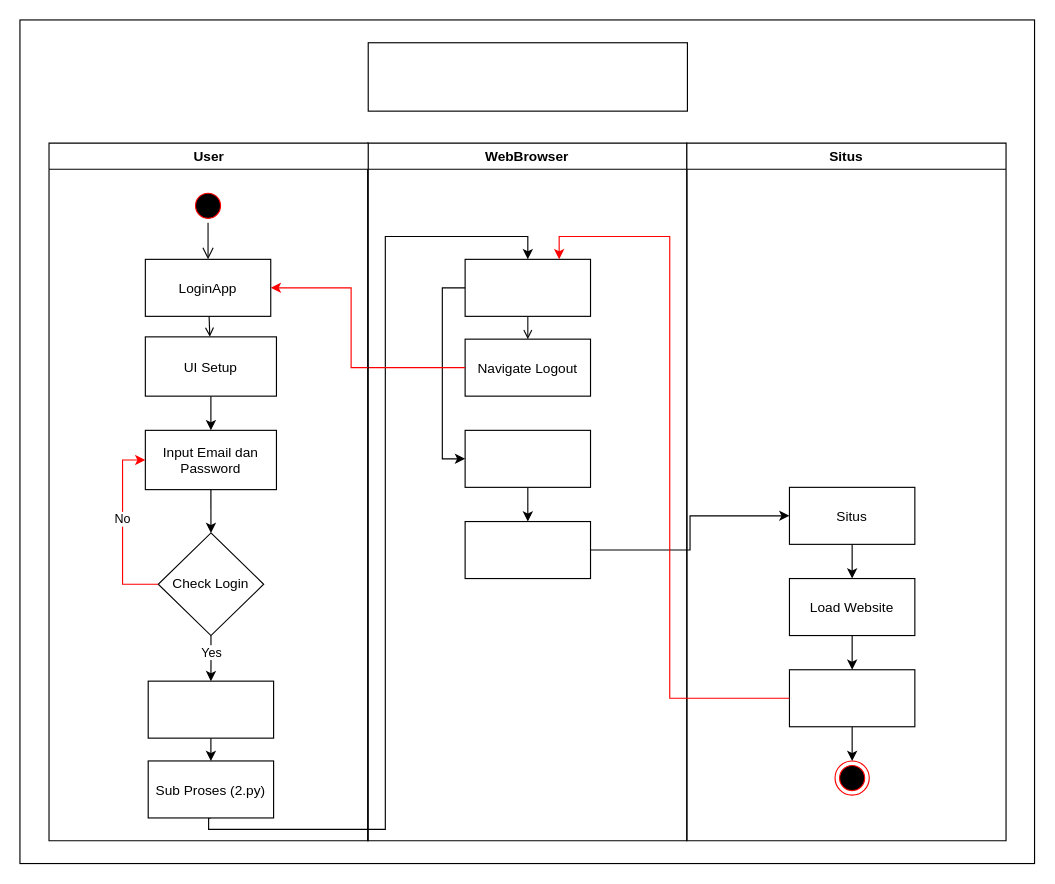
Some shapes in this 1055 by 884 pixel diagram are drawn without their labels. Here are the shapes that lost their labels. From the top down, the centre of each, then its label:
At [527,76]: "AKTIVITY DIAGRAM".
At [527,287]: "Browser".
At [527,458]: "Load URL".
At [527,549]: "Sub Proses (3.py)".
At [210,709]: "Open Web Browser".
At [851,698]: "Go Back".
